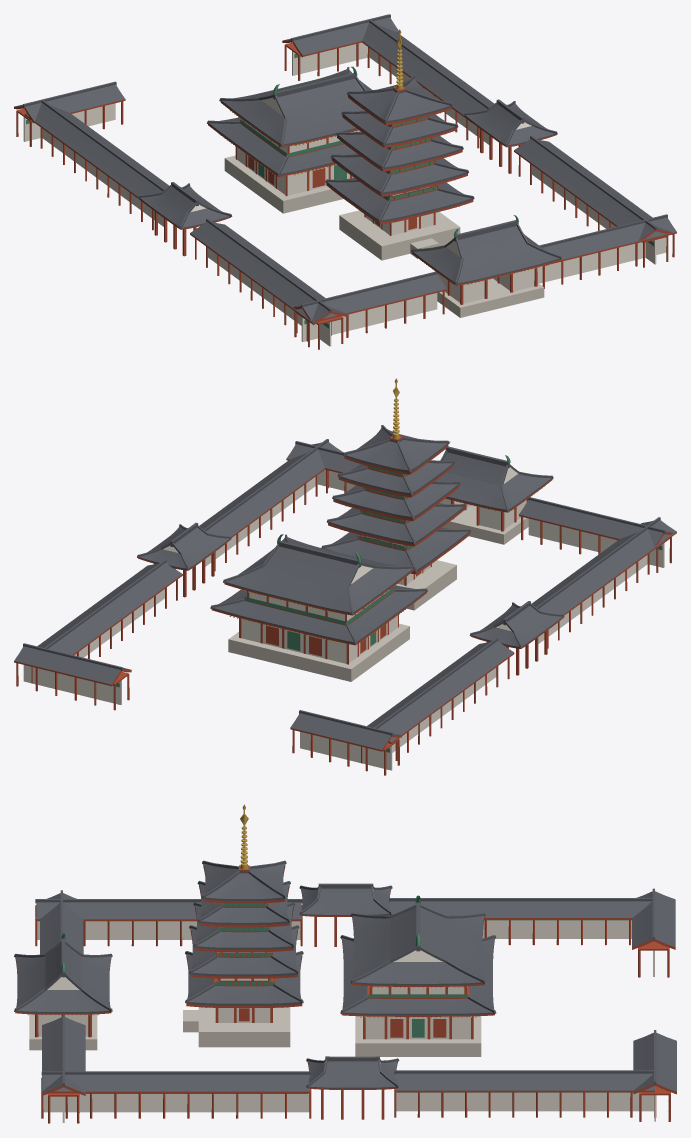
The model's file is osaka-shitennoji.detail.glb.
The picture shows the model from 3 angles, top to bottom: view 1: azimuth 30°, elevation 25°; view 2: azimuth 150°, elevation 25°; view 3: azimuth 270°, elevation 25°; orthographic projection. The views are drawn at different scales.
Visible parts, largest first — view 1: Shitennō-ji; view 2: Shitennō-ji; view 3: Shitennō-ji.
Boxes of the visible parts, x1,y1,x2,y2 form: Shitennō-ji: (14, 14, 676, 349); Shitennō-ji: (14, 378, 676, 775); Shitennō-ji: (14, 804, 676, 1123).
Bounding box in the file's own units: 78.11 × 40.4 × 109.
